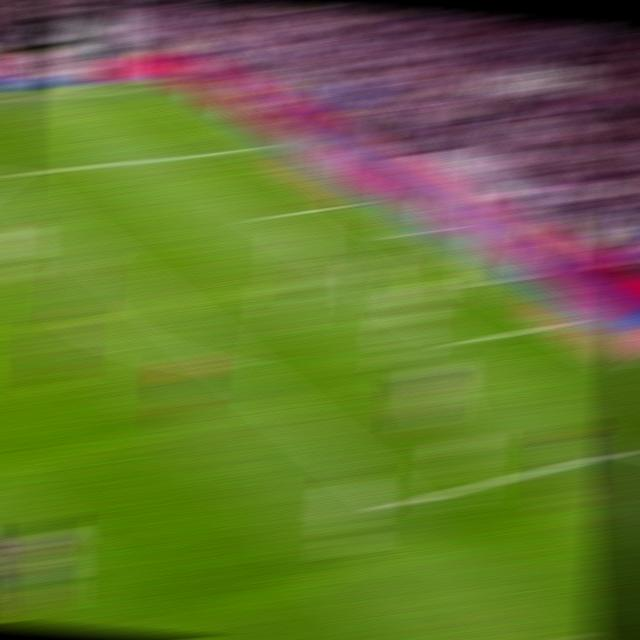bigarea_bottom_inner: (383, 491, 420, 517)
bigarea_top_inner: (0, 164, 19, 183)
bigarea_top_outter: (240, 140, 275, 153)
bottom_arc_area_intersection: (218, 354, 255, 377)
corner: (142, 82, 177, 95)
smallarea_top_inner: (255, 209, 289, 224)
top_arc_area_intersection: (82, 244, 117, 262)
